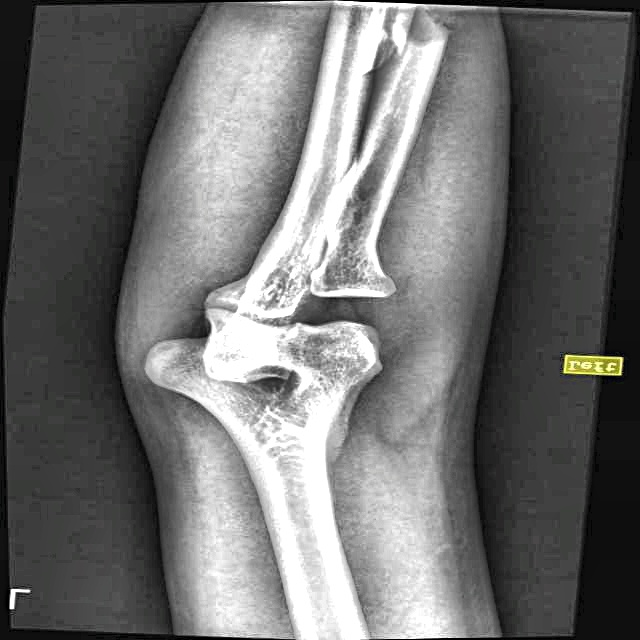Spiral: (333, 0, 454, 76)
